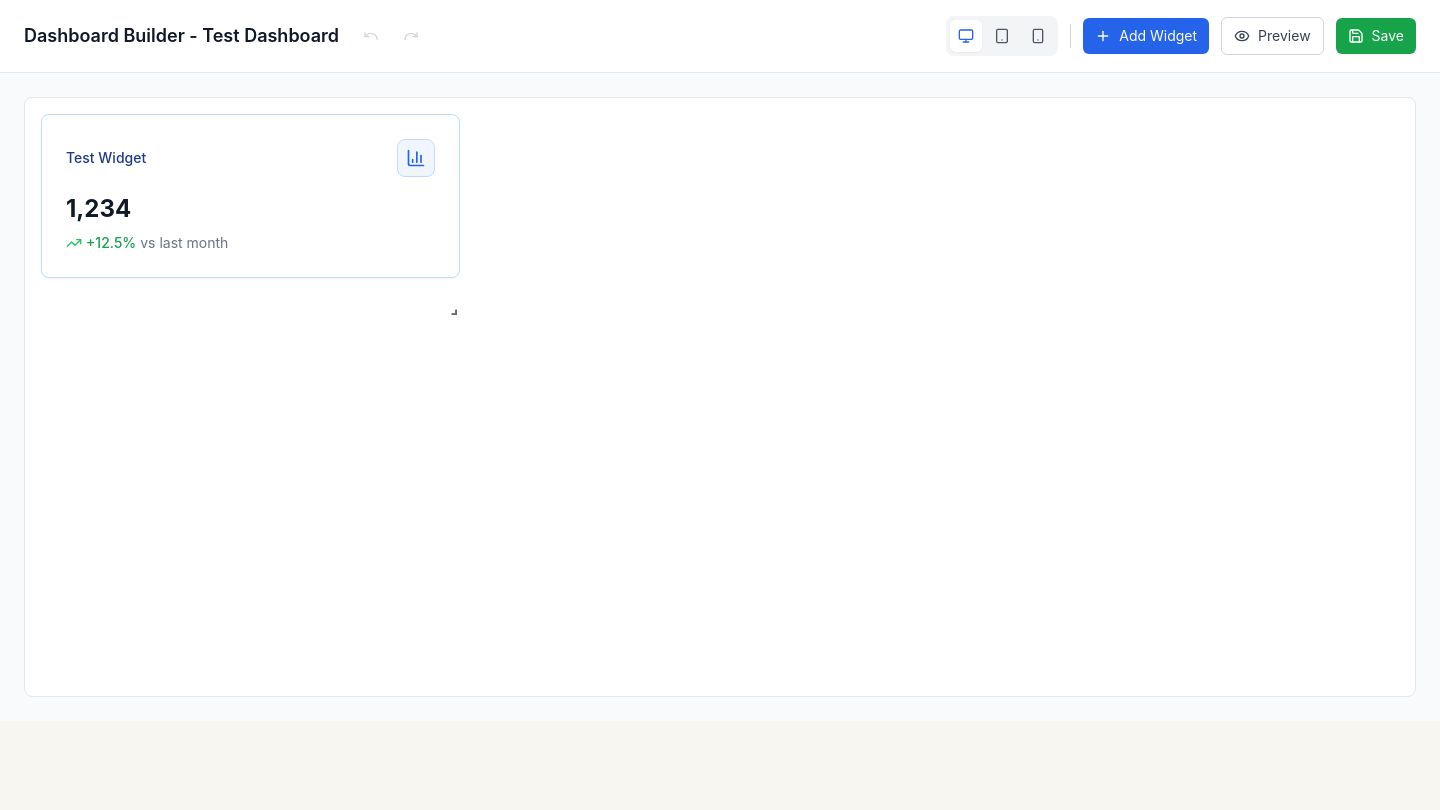
DashboardBuilder › opens widget library when add widget is clicked
Step 1. Click the text "Add Widget" → [1158, 36], box [1119,26,1197,46]
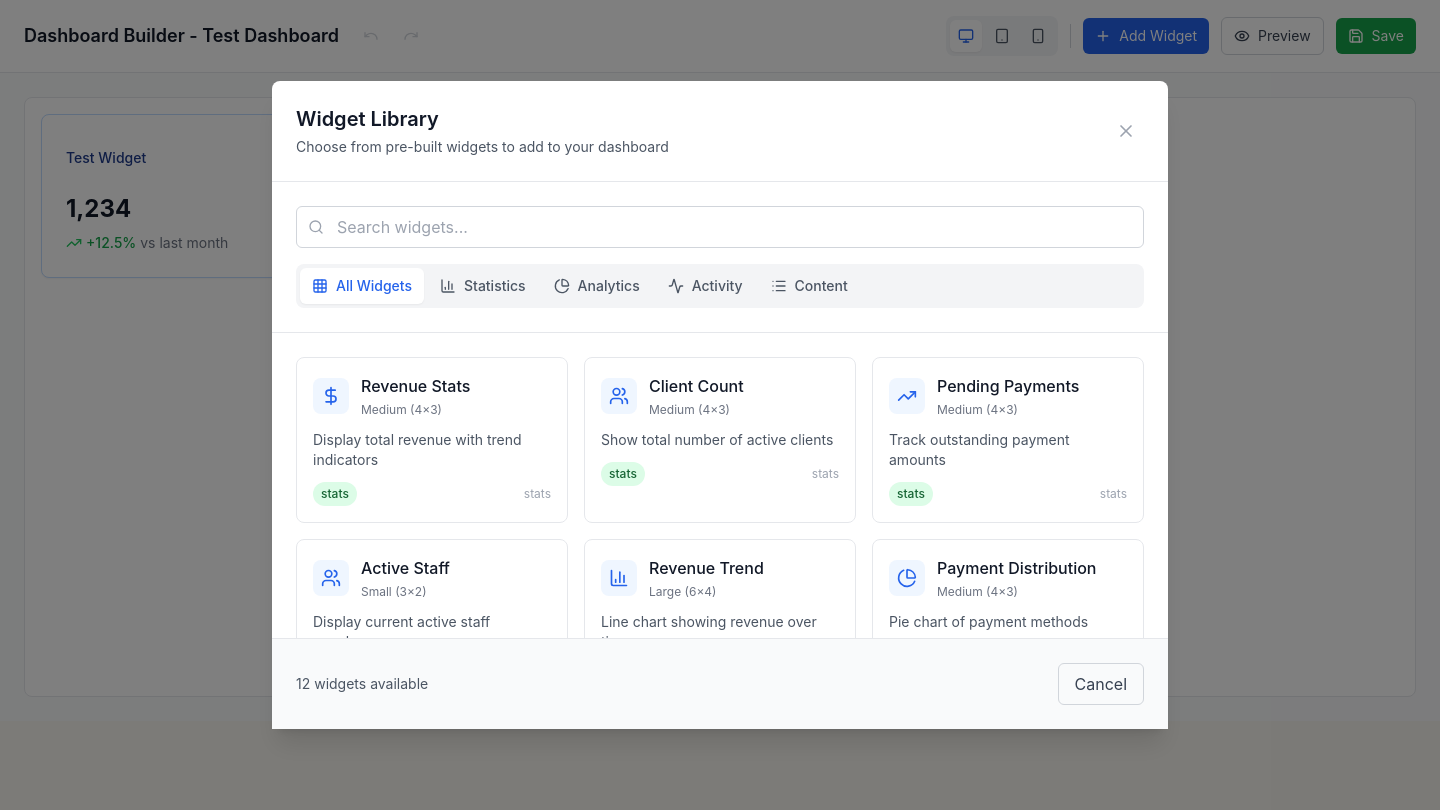
Expected: the heading "Widget Library" is shown, [296,107,439,131]
